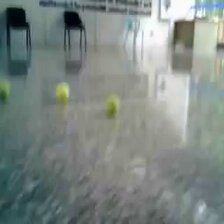tennis: (53, 81, 70, 101), (104, 96, 120, 114), (1, 80, 14, 101)
